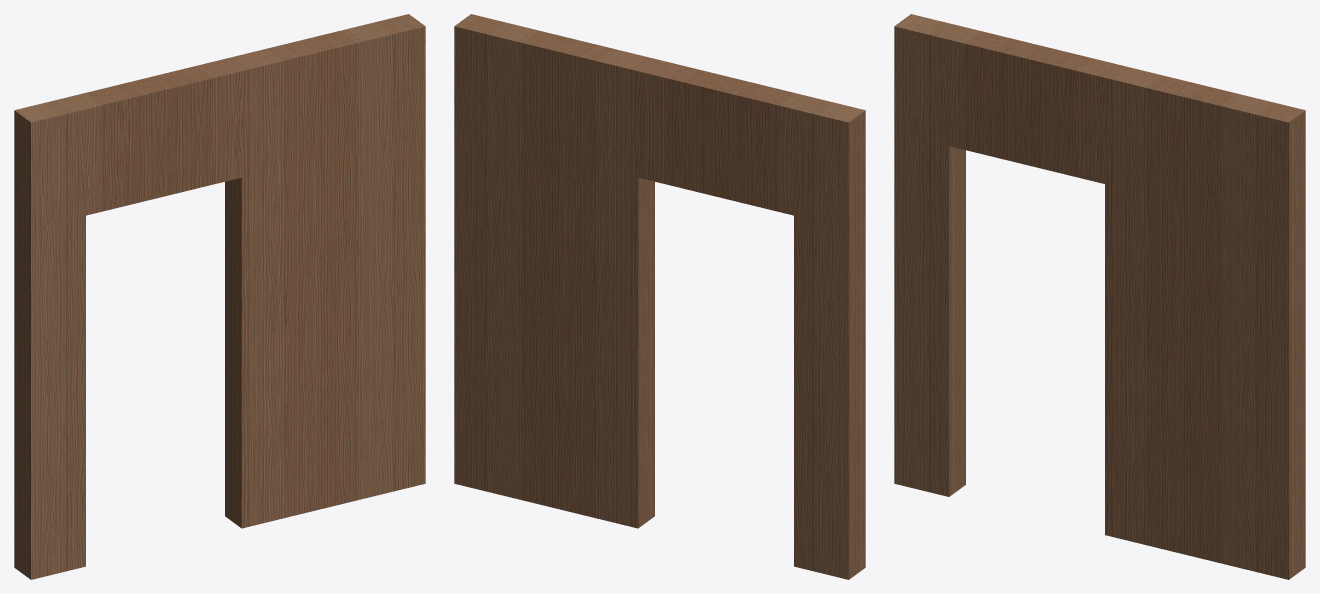
Rendered from Wall 2.fbx.
The picture shows the model from 3 angles, left to right: view 1: azimuth 30°, elevation 25°; view 2: azimuth 150°, elevation 25°; view 3: azimuth 330°, elevation 25°; orthographic projection.
Parts seen in each view (by area): view 1: wall 2; view 2: wall 2; view 3: wall 2.
Boxes of the visible parts, x1,y1,x2,y2 form: wall 2: (14, 14, 425, 579); wall 2: (454, 14, 865, 579); wall 2: (894, 14, 1305, 579).
Bounding box in the file's own units: 243 × 269 × 18.07.
1 material, 1 textured.
